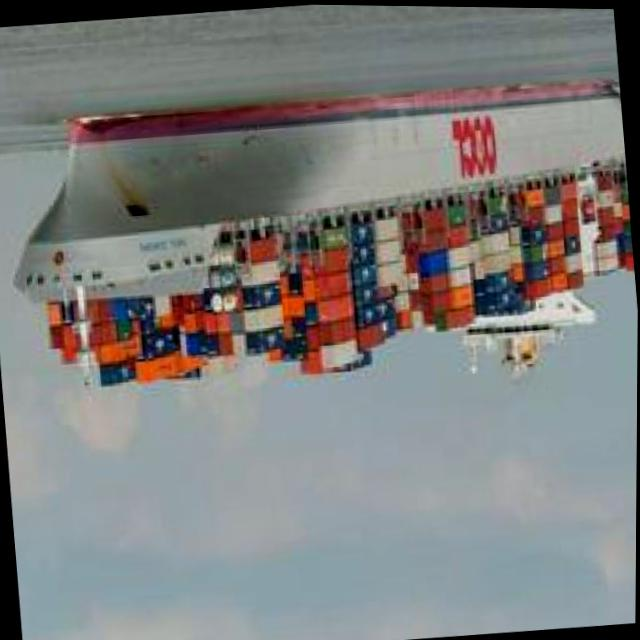ship2: (12, 73, 634, 387)
